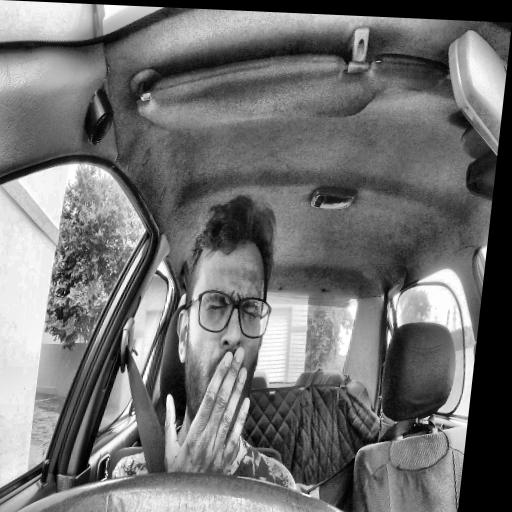drowsy: (166, 194, 285, 436)
